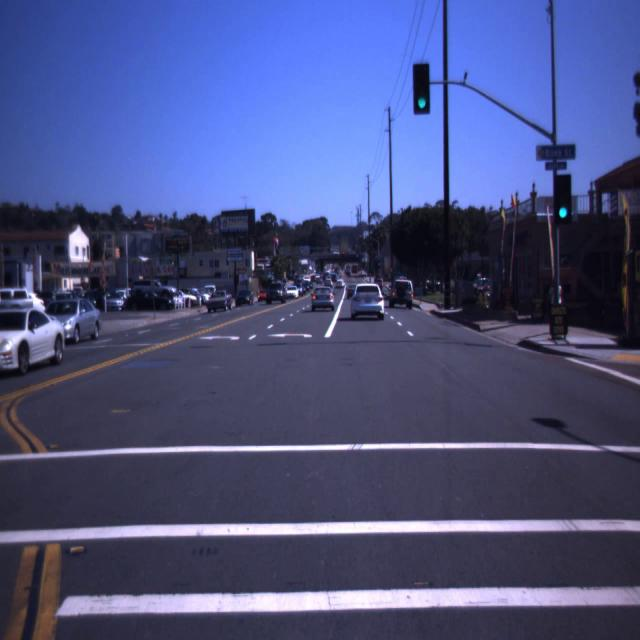yesil: (554, 174, 572, 223), (414, 64, 429, 114)
